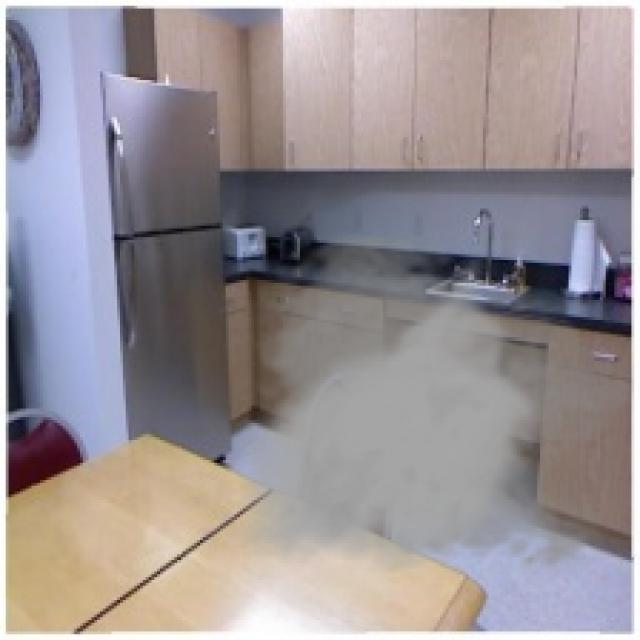Smoke: (222, 228, 634, 580)
